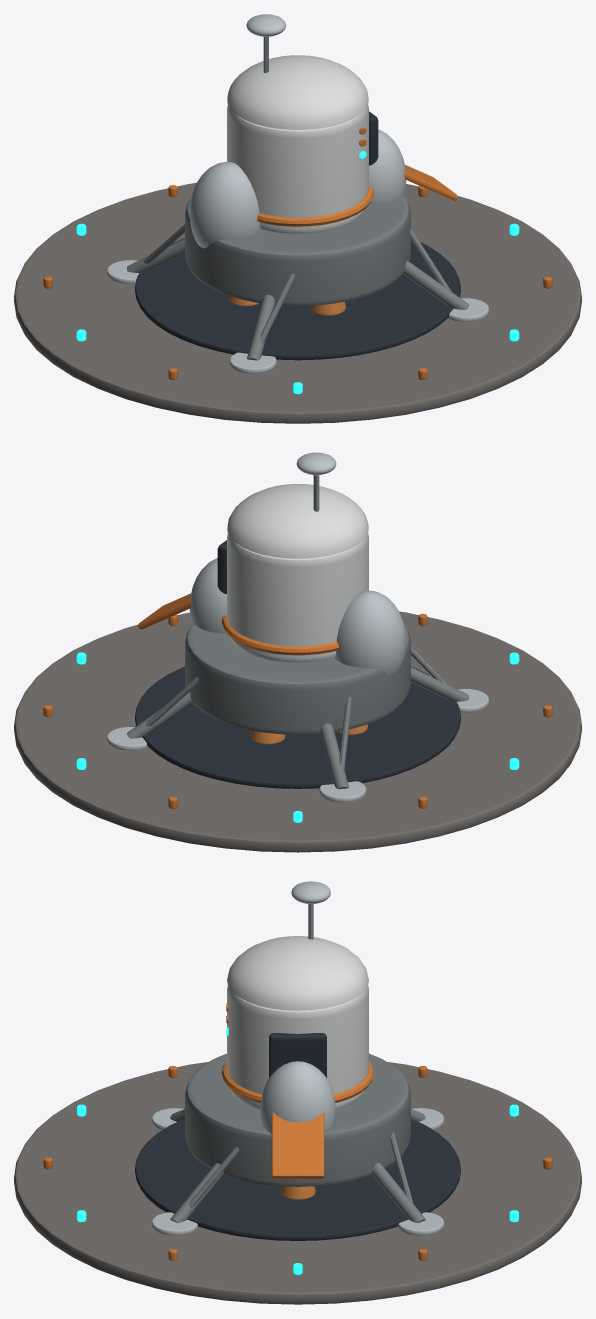
The model's file is landing-system.glb.
The picture shows the model from 3 angles, top to bottom: view 1: azimuth 30°, elevation 25°; view 2: azimuth 150°, elevation 25°; view 3: azimuth 270°, elevation 25°; orthographic projection.
Parts seen in each view (by area): view 1: Landing_CentralApron, RenderBatch_Landing_Lander_LAND_ThermalWhite, RenderBatch_Landing_Lander_LAND_Frame, Landing_BlastPlate, RenderBatch_Landing_Lander_LAND_Body, RenderBatch_Landing_Lander_LAND_SafetyOrange, Landing_Ramp, RenderBatch_LandingSystem_LAND_SafetyOrange, RenderBatch_LandingSystem_LAND_StatusLight, RenderBatch_Landing_Lander_LAND_Copper; view 2: Landing_CentralApron, RenderBatch_Landing_Lander_LAND_ThermalWhite, RenderBatch_Landing_Lander_LAND_Frame, Landing_BlastPlate, RenderBatch_Landing_Lander_LAND_Body, RenderBatch_Landing_Lander_LAND_SafetyOrange, Landing_Ramp, RenderBatch_LandingSystem_LAND_SafetyOrange, RenderBatch_LandingSystem_LAND_StatusLight, RenderBatch_Landing_Lander_LAND_Copper; view 3: Landing_CentralApron, Landing_BlastPlate, RenderBatch_Landing_Lander_LAND_Frame, RenderBatch_Landing_Lander_LAND_ThermalWhite, RenderBatch_Landing_Lander_LAND_Body, Landing_Ramp, Landing_Airlock, RenderBatch_Landing_Lander_LAND_SafetyOrange, RenderBatch_LandingSystem_LAND_SafetyOrange, RenderBatch_LandingSystem_LAND_StatusLight.
Boxes of the visible parts, x1=… form: Landing_CentralApron: x1=14, y1=183, x2=581, y2=423; RenderBatch_Landing_Lander_LAND_ThermalWhite: x1=227, y1=55, x2=368, y2=233; RenderBatch_Landing_Lander_LAND_Frame: x1=127, y1=37, x2=468, y2=360; Landing_BlastPlate: x1=135, y1=238, x2=460, y2=360; RenderBatch_Landing_Lander_LAND_Body: x1=106, y1=14, x2=489, y2=373; RenderBatch_Landing_Lander_LAND_SafetyOrange: x1=257, y1=127, x2=373, y2=226; Landing_Ramp: x1=404, y1=165, x2=457, y2=200; RenderBatch_LandingSystem_LAND_SafetyOrange: x1=43, y1=185, x2=552, y2=379; RenderBatch_LandingSystem_LAND_StatusLight: x1=76, y1=223, x2=519, y2=394; RenderBatch_Landing_Lander_LAND_Copper: x1=227, y1=295, x2=345, y2=315; Landing_CentralApron: x1=14, y1=611, x2=581, y2=852; RenderBatch_Landing_Lander_LAND_ThermalWhite: x1=227, y1=484, x2=368, y2=662; RenderBatch_Landing_Lander_LAND_Frame: x1=127, y1=475, x2=468, y2=789; Landing_BlastPlate: x1=135, y1=666, x2=460, y2=788; RenderBatch_Landing_Lander_LAND_Body: x1=106, y1=452, x2=489, y2=802; RenderBatch_Landing_Lander_LAND_SafetyOrange: x1=222, y1=615, x2=338, y2=655; Landing_Ramp: x1=138, y1=593, x2=191, y2=629; RenderBatch_LandingSystem_LAND_SafetyOrange: x1=43, y1=613, x2=552, y2=808; RenderBatch_LandingSystem_LAND_StatusLight: x1=76, y1=652, x2=519, y2=822; RenderBatch_Landing_Lander_LAND_Copper: x1=250, y1=724, x2=368, y2=744; Landing_CentralApron: x1=14, y1=1062, x2=581, y2=1304; Landing_BlastPlate: x1=135, y1=1121, x2=460, y2=1240; RenderBatch_Landing_Lander_LAND_Frame: x1=170, y1=904, x2=425, y2=1222; RenderBatch_Landing_Lander_LAND_ThermalWhite: x1=227, y1=936, x2=368, y2=1109; RenderBatch_Landing_Lander_LAND_Body: x1=151, y1=881, x2=444, y2=1235; Landing_Ramp: x1=271, y1=1112, x2=324, y2=1178; Landing_Airlock: x1=269, y1=1033, x2=326, y2=1077; RenderBatch_Landing_Lander_LAND_SafetyOrange: x1=221, y1=1003, x2=374, y2=1102; RenderBatch_LandingSystem_LAND_SafetyOrange: x1=43, y1=1066, x2=552, y2=1260; RenderBatch_LandingSystem_LAND_StatusLight: x1=77, y1=1104, x2=518, y2=1274.
Size of the model in its own units: 10.8 by 6.06 by 10.8.
